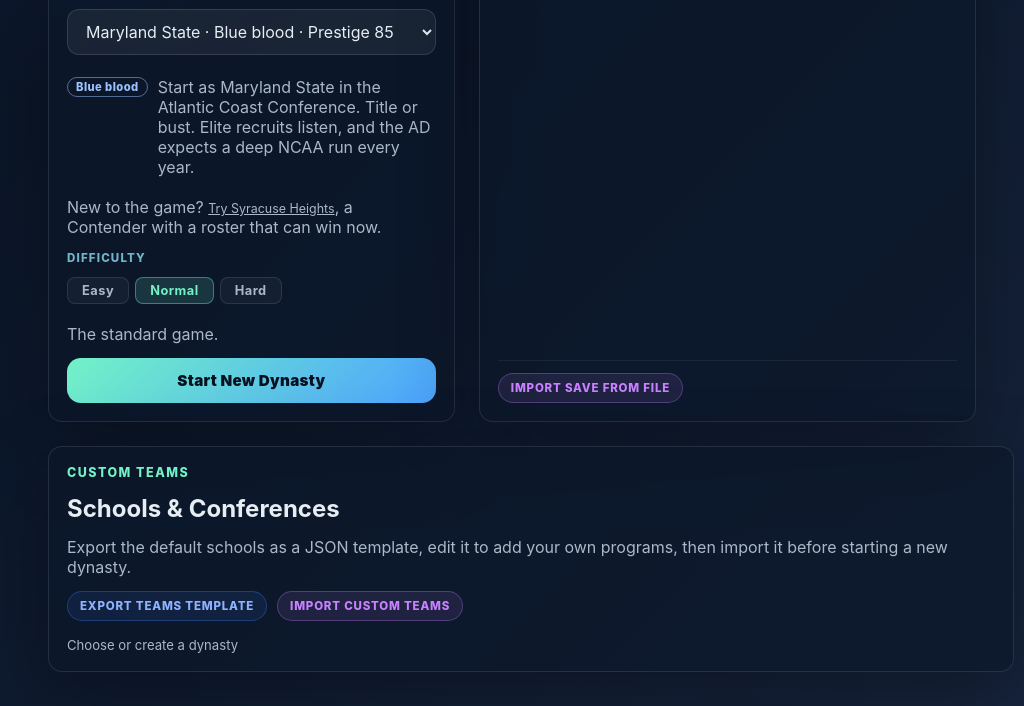
Test: Desktop App › tracks the scholarship budget, supports partial offers, and shows public stars for ranked recruits
The width and height of the screenshot is (1024, 706).
(page scrolled)
Step 1. Click the button "Start New Dynasty" → (251, 380), box left=67, top=358, right=436, bottom=403
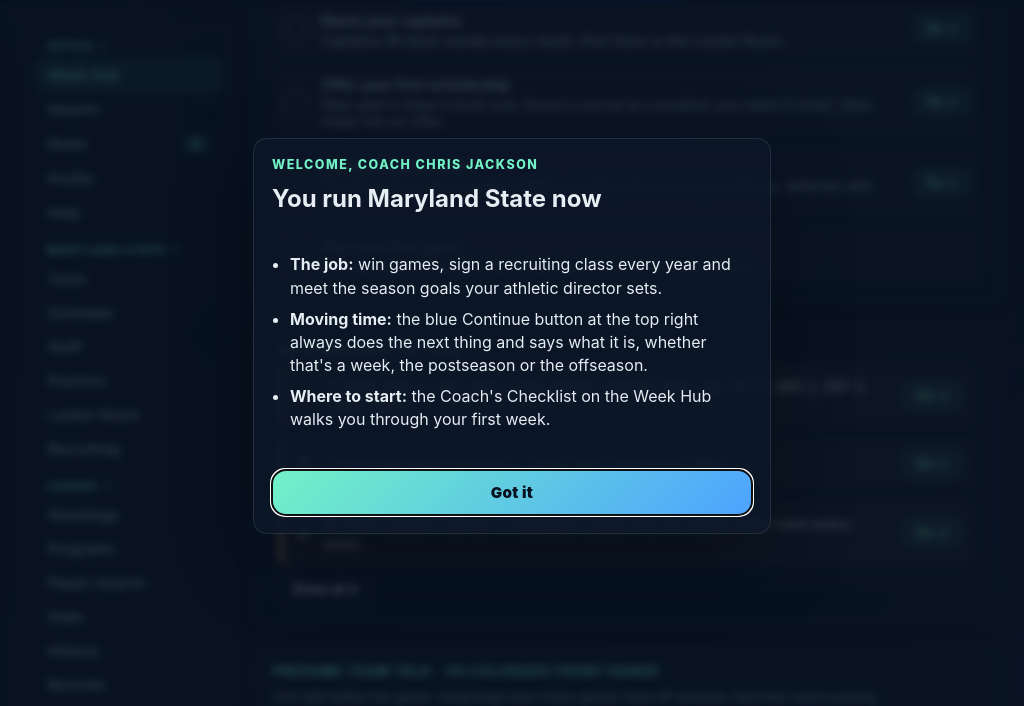
Step 2. Click the button "Got it" → (512, 492), box left=272, top=470, right=752, bottom=515
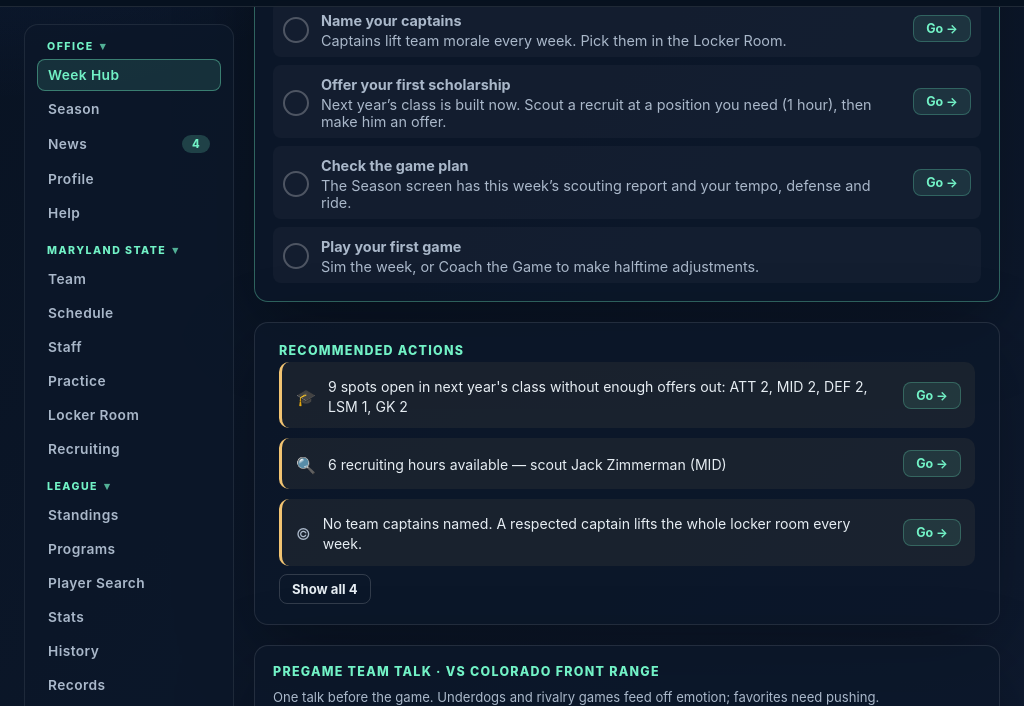
Step 3. Click the button "Recruiting" → (129, 449), box left=37, top=433, right=221, bottom=465
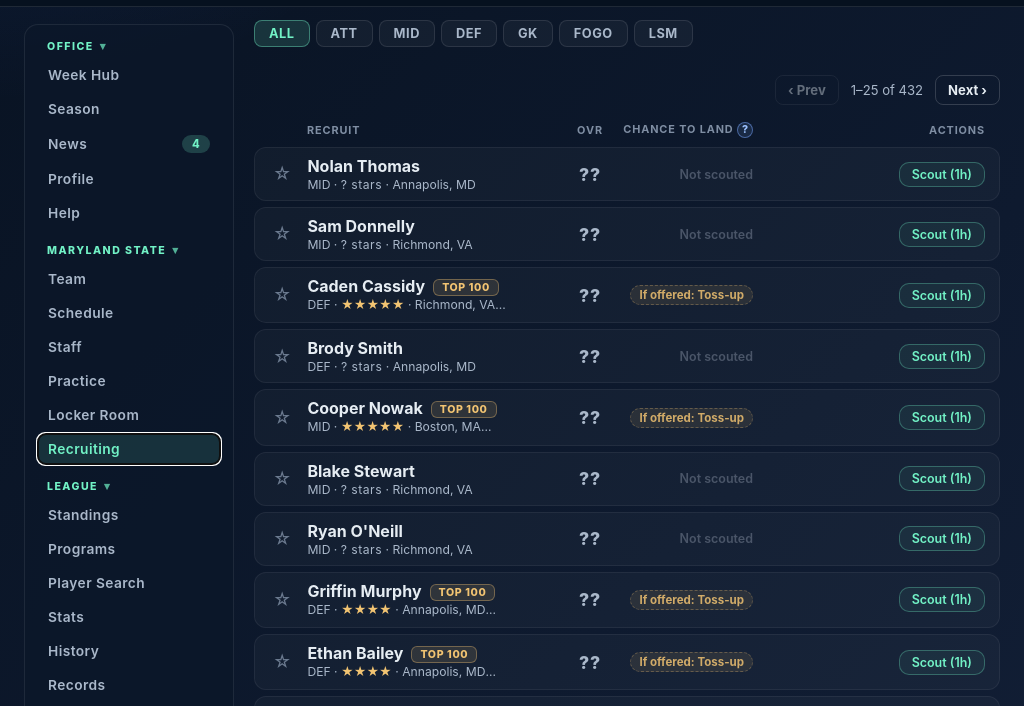
Check: the 1st text "Top 100" is shown, box left=433, top=279, right=499, bottom=296
Step 4. Click the 1st button "Scout (1h)" → (942, 174), box left=899, top=162, right=985, bottom=186
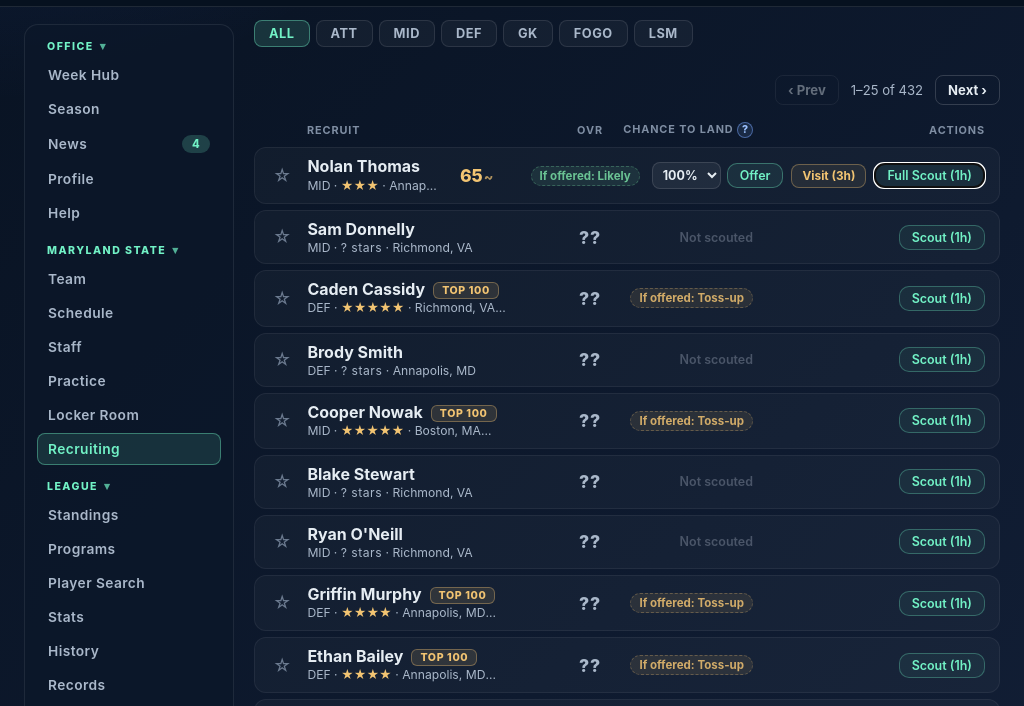
Step 5. Select "50%" in the dropdown named "Scholarship offer amount" → (686, 176), box left=652, top=162, right=721, bottom=189
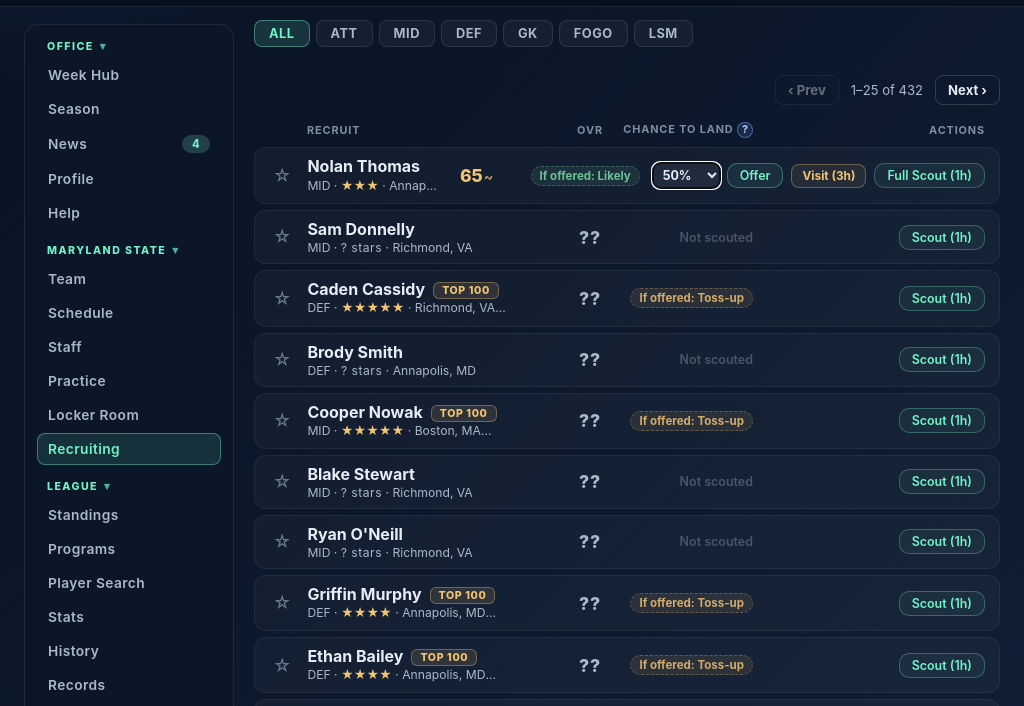
Step 6. Click the button "Offer" → (755, 176), box left=727, top=163, right=784, bottom=188
(page scrolled)
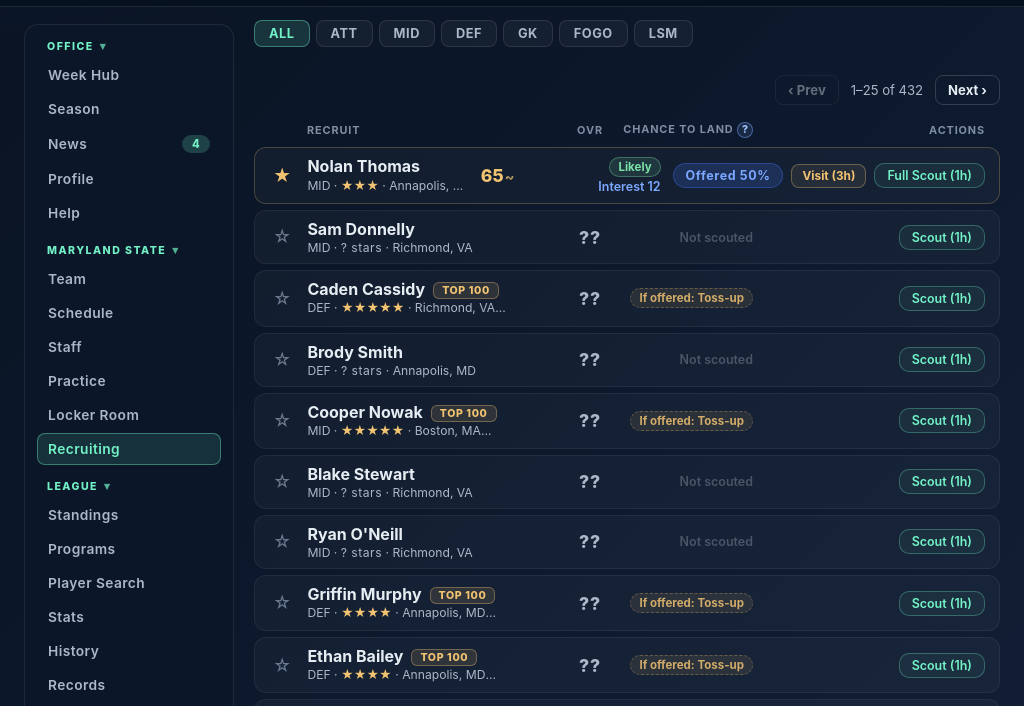
Check: the text "Offered 50%" is shown, box left=673, top=163, right=784, bottom=188
